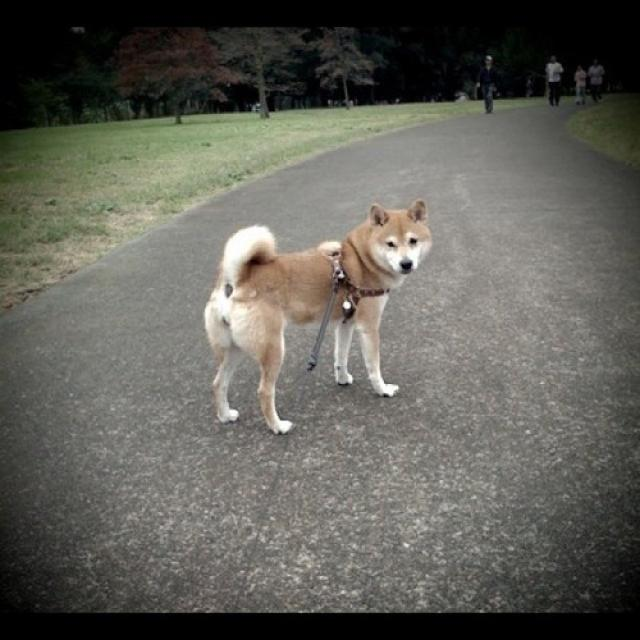dog-shiba_inu: (196, 193, 436, 440)
